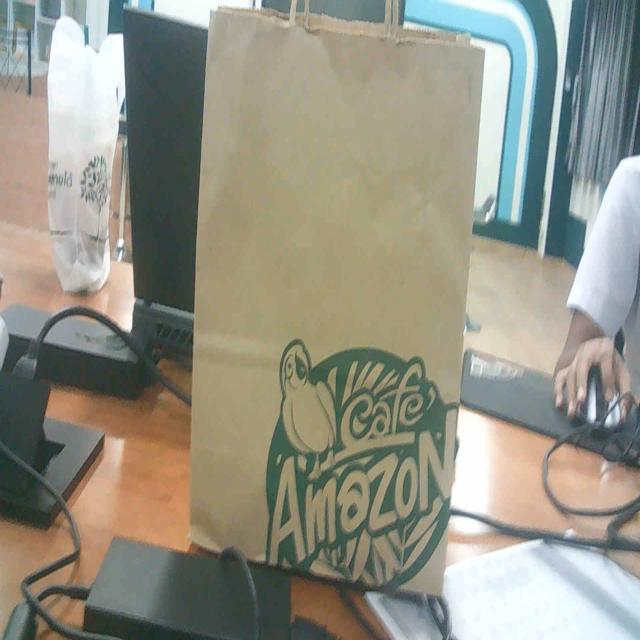bag: (174, 0, 477, 619)
